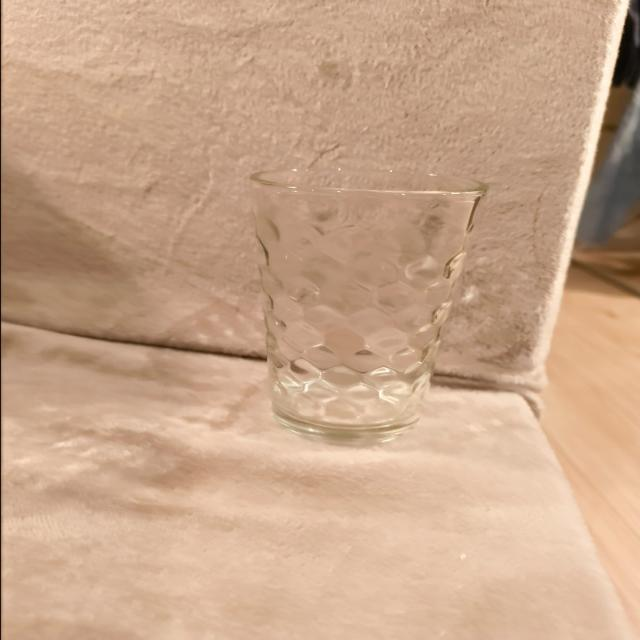ok g2: (250, 165, 490, 447)
